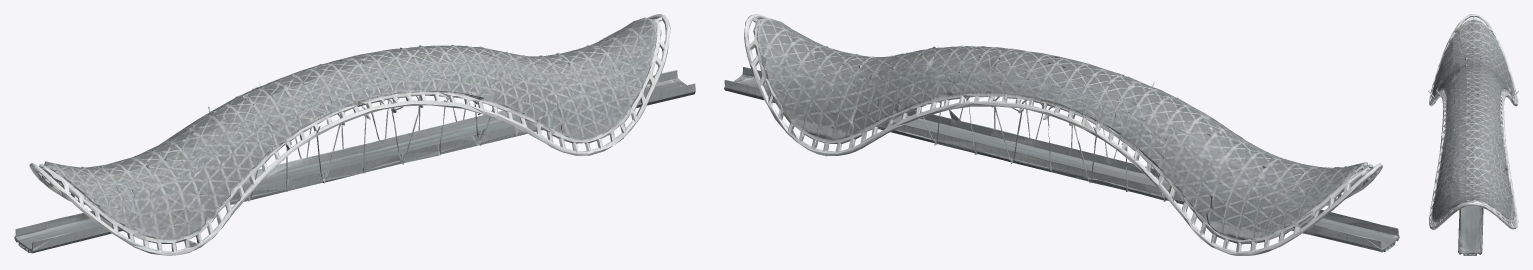
Rendered from peace-bridge.glb.
3 views of the same model, side by side, from view 1: azimuth 30°, elevation 25°; view 2: azimuth 150°, elevation 25°; view 3: azimuth 270°, elevation 25° (orthographic). The views are drawn at different scales.
Size of the model in its own units: 1.9 by 0.3244 by 0.3702.
Materials: 1 (1 with a texture image).
